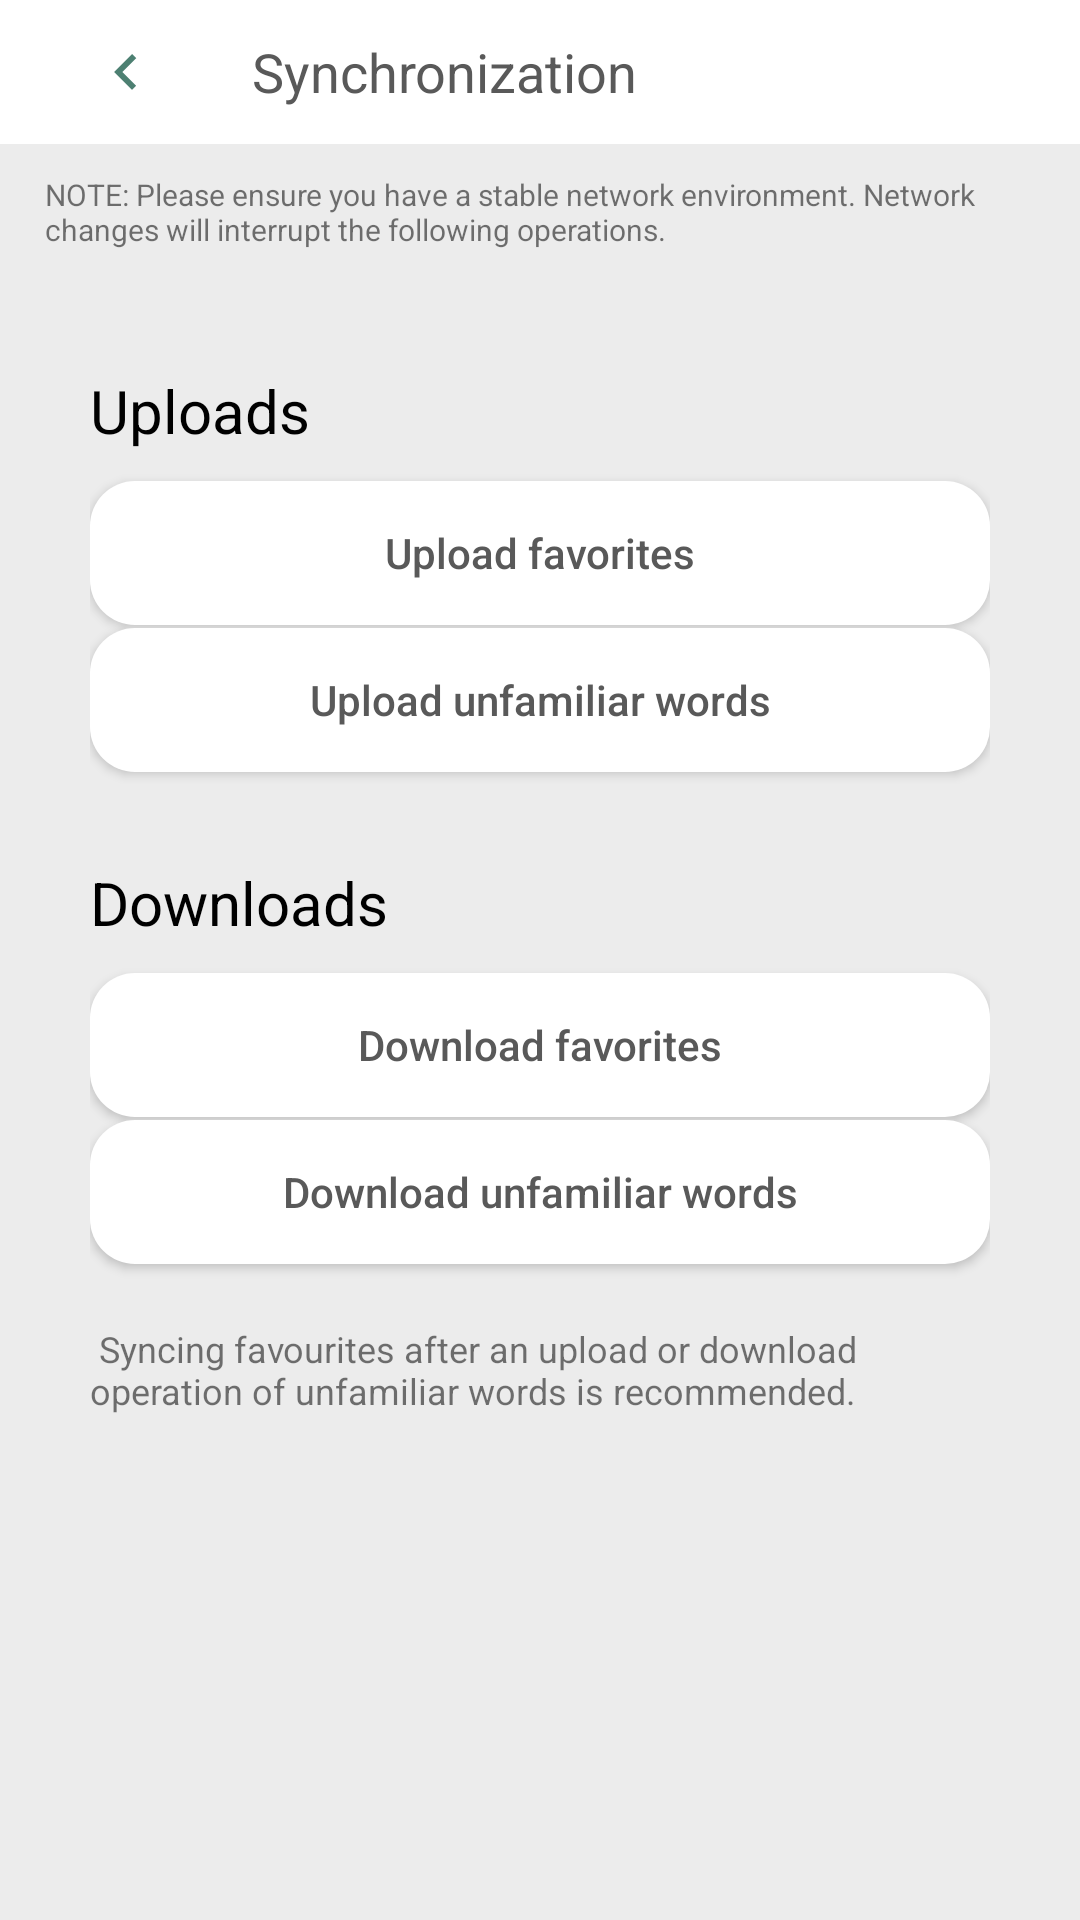

Icons on this 1080*1920 Android screen, each with its box as (x1, y1, x2, y2):
keyboard arrow left: (114, 54, 136, 90)
